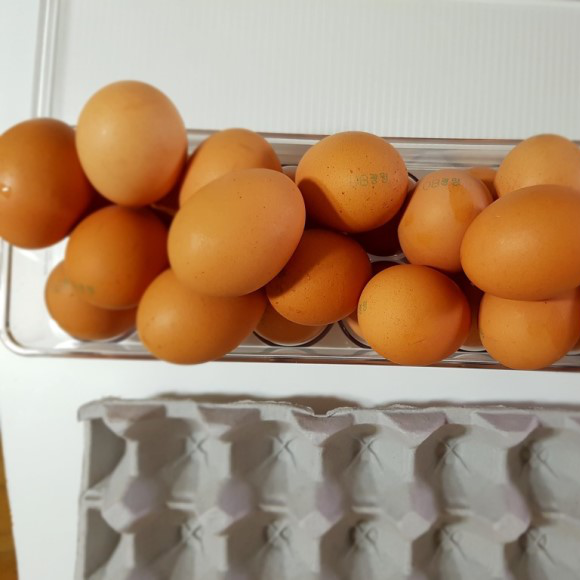egg: (3, 80, 580, 371)
